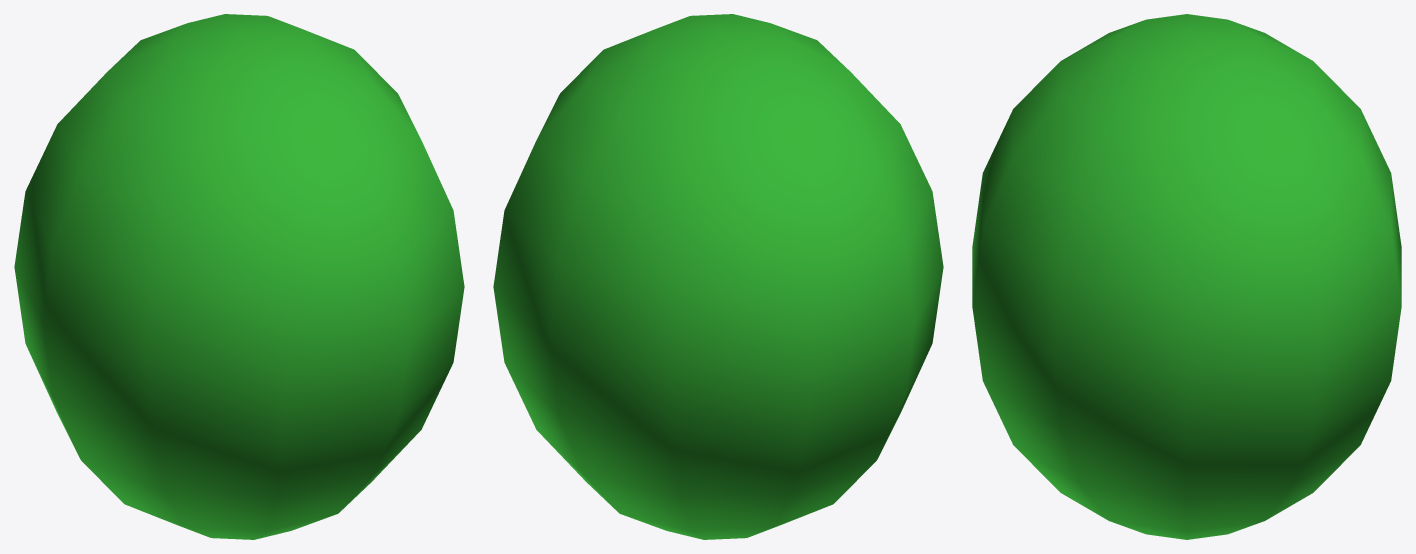
The model's file is leaflet_stage2.obj.
3 views of the same model, side by side, from view 1: azimuth 30°, elevation 25°; view 2: azimuth 150°, elevation 25°; view 3: azimuth 270°, elevation 25° (orthographic).
Bounding box in the file's own units: 2 × 2.4 × 1.9.
